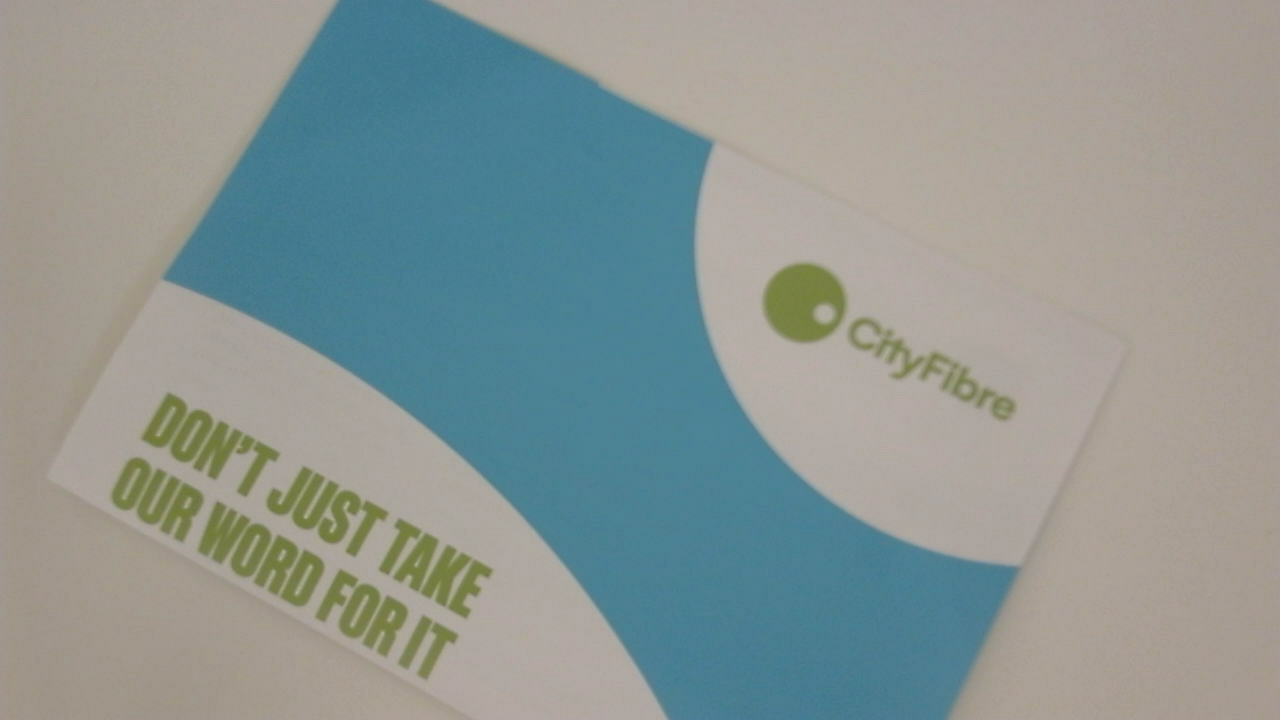Mixed Paper: (48, 7, 1133, 720)
